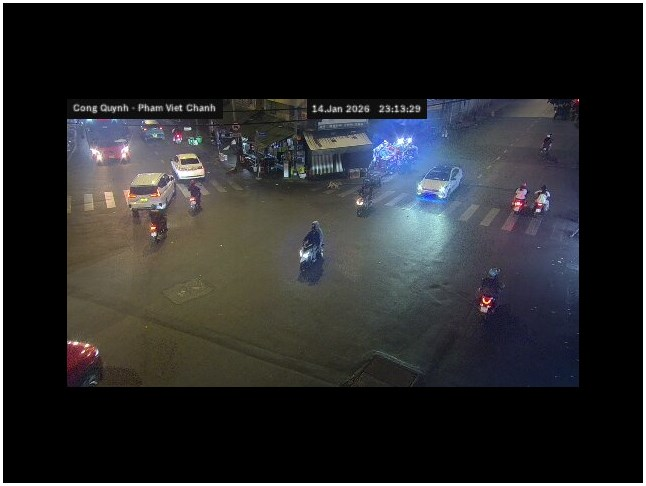car: (124, 172, 176, 211), (415, 163, 463, 202), (67, 339, 105, 386), (171, 152, 206, 182), (142, 126, 166, 143)
motorbike: (476, 268, 504, 317), (299, 221, 325, 271), (148, 207, 168, 244), (354, 181, 375, 216), (511, 182, 528, 216), (532, 187, 552, 214), (186, 182, 203, 212), (539, 133, 554, 156)
truck: (86, 119, 130, 166)
